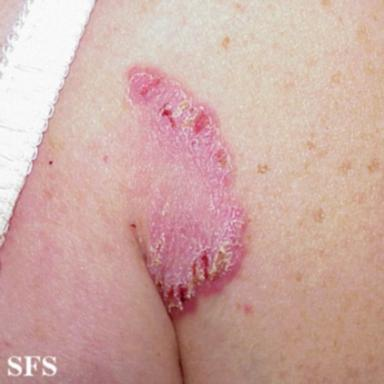Hailey-Hailey-Disease: (123, 67, 247, 318)
